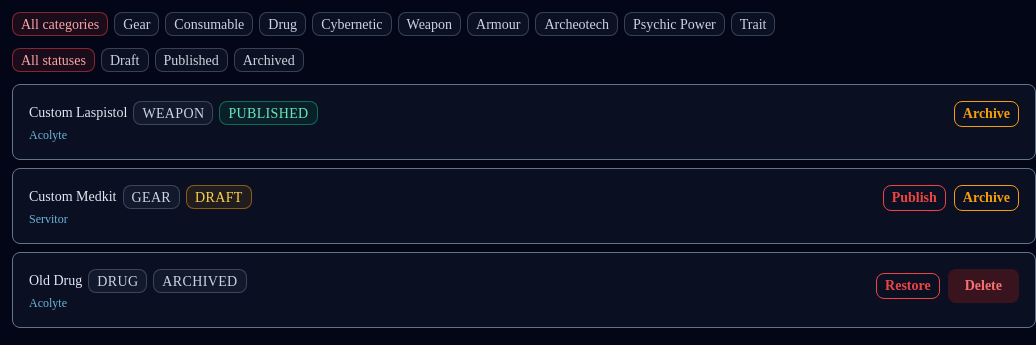
CustomItemLibraryAdmin › filtering by status hides non-matching items
Click the button "Archived" at (269, 60), box x1=234 y1=48 x2=304 y2=72
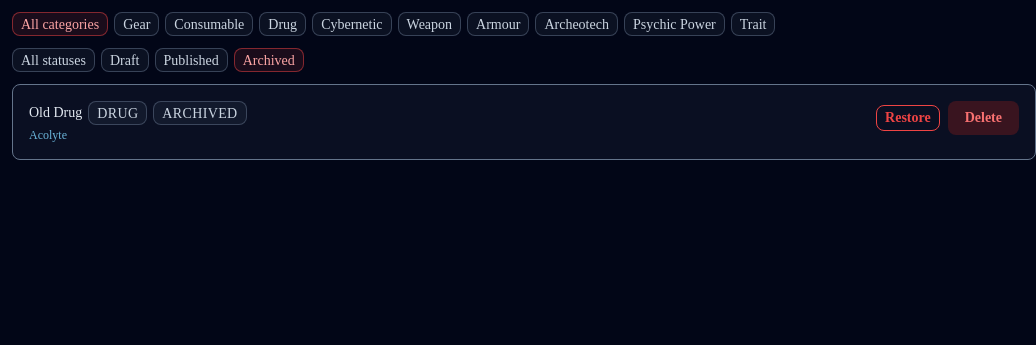
expect the text "Old Drug" is shown: met, box x1=29 y1=103 x2=82 y2=123
expect the text "Custom Laspistol" is gone: met
expect the text "Custom Medkit" is gone: met
